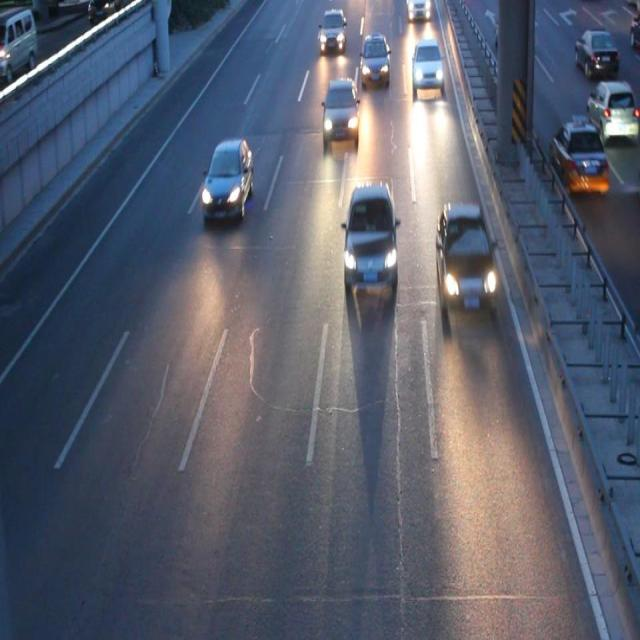car: (435, 205, 496, 312), (343, 184, 396, 279), (202, 140, 252, 218), (550, 123, 606, 188), (586, 83, 640, 136), (322, 79, 357, 134), (574, 30, 616, 71), (410, 40, 442, 90), (360, 37, 389, 82), (318, 9, 346, 48), (492, 19, 522, 50)
truck: (406, 1, 428, 18)
